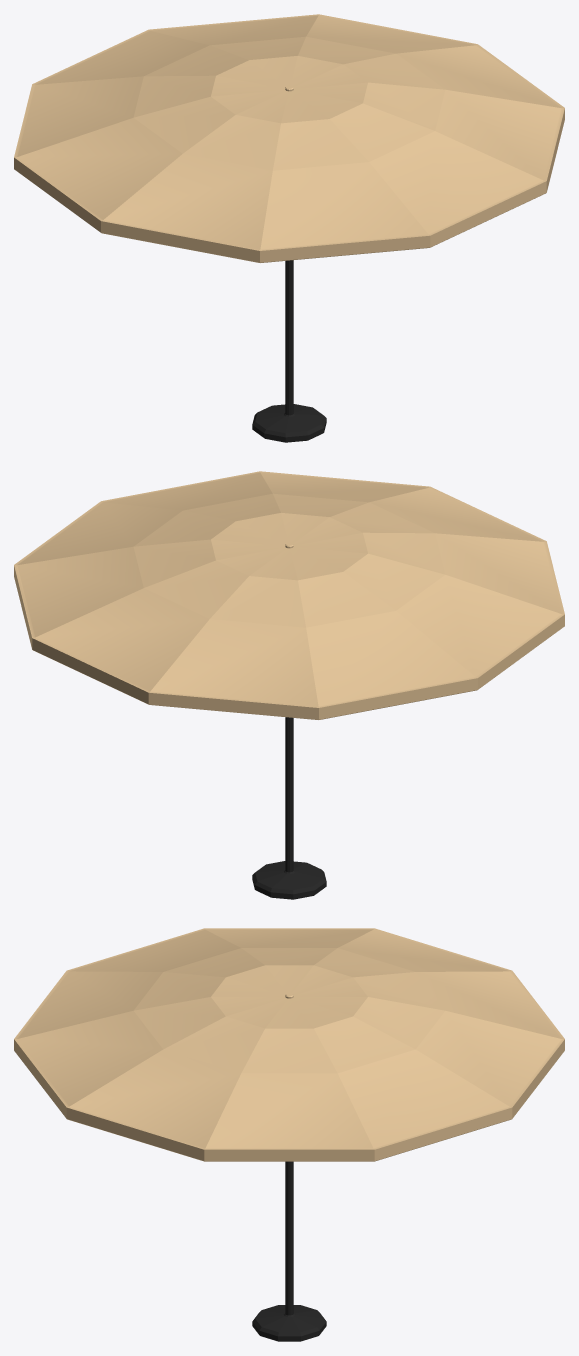
Rendered from bg_parasol_circle.fbx.
The picture shows the model from 3 angles, top to bottom: view 1: azimuth 30°, elevation 25°; view 2: azimuth 150°, elevation 25°; view 3: azimuth 270°, elevation 25°; orthographic projection. The views are drawn at different scales.
Visible parts, largest first — view 1: CircleParasole; view 2: CircleParasole; view 3: CircleParasole.
Boxes of the visible parts, <box> form: CircleParasole: <box>14,14,564,442</box>; CircleParasole: <box>14,471,564,899</box>; CircleParasole: <box>14,928,564,1341</box>.
Bounding box in the file's own units: 2210 × 1547 × 2323.
